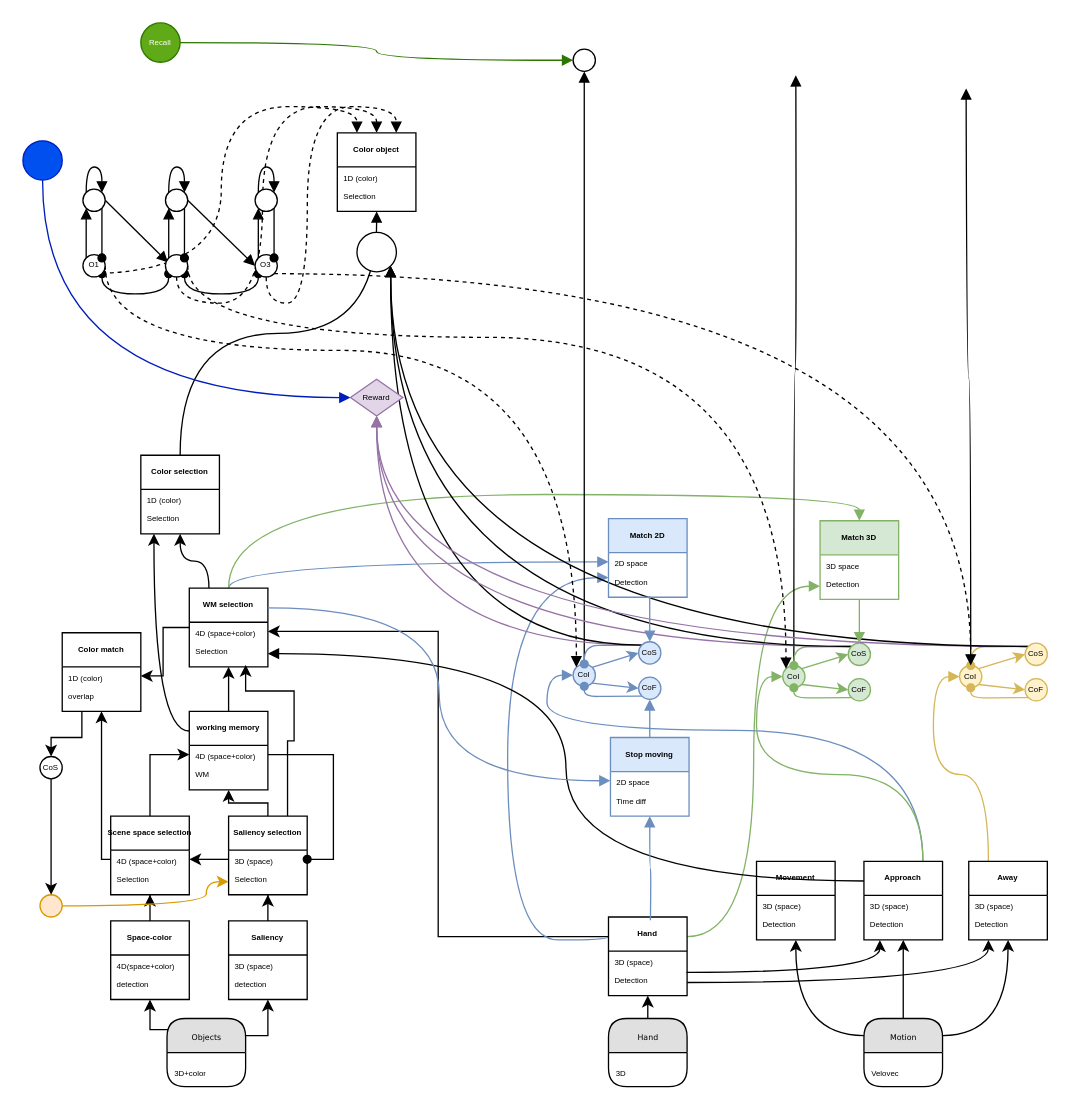
This 1070x1114 diagram has some shape labels left out. The centre of each missing label's shape, as x and y in pixels:
"Expl" goes at (x=50, y=905).
"Int reach" goes at (x=583, y=59).
"Learn" goes at (x=42, y=160).
"M1" goes at (x=93, y=199).
"M2" goes at (x=176, y=199).
"M3" goes at (x=265, y=199).
"O2" goes at (x=176, y=265).
"Seq CoS" goes at (x=376, y=251).
